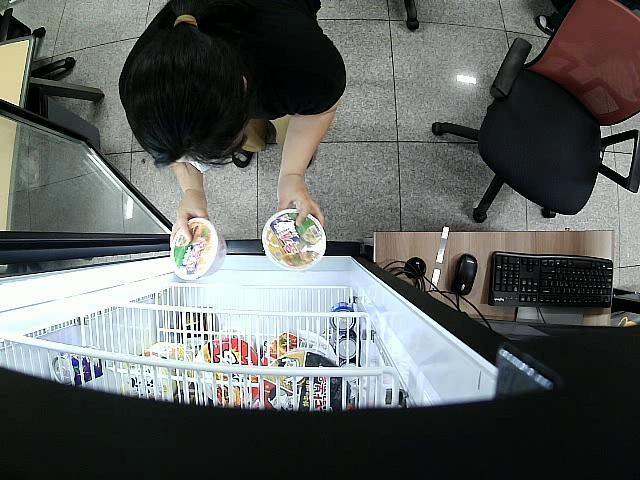09_yukGaeJang: (262, 209, 326, 271), (170, 217, 226, 280)
